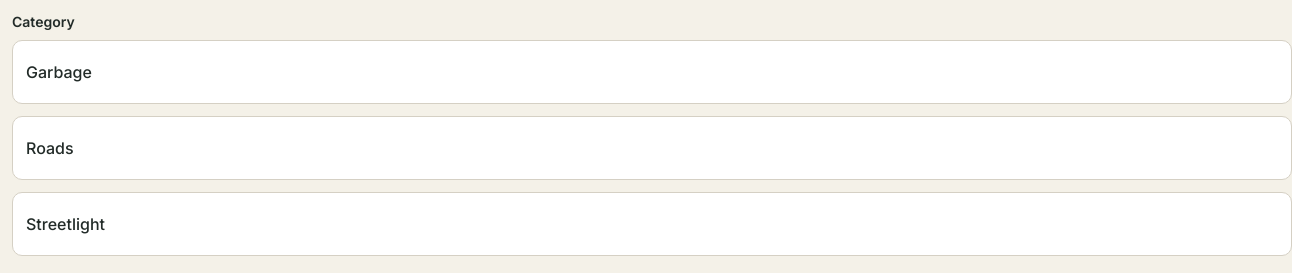
Test: ChoiceCards (radio group) › is a labelled radiogroup with one Tab stop and aria-checked on the chosen card
The image size is (1292, 273).
What coordinates should you click on to do the following:
click the radio button labelled "Roads"
I would click on:
 (652, 148)
Its box is top-left (12, 116), bottom-right (1291, 180).
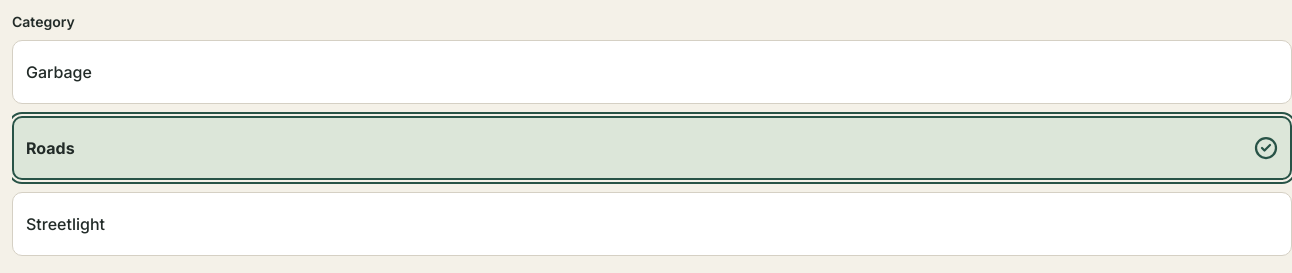
Expected: the icon is shown, top-left (1254, 136), bottom-right (1278, 160)
